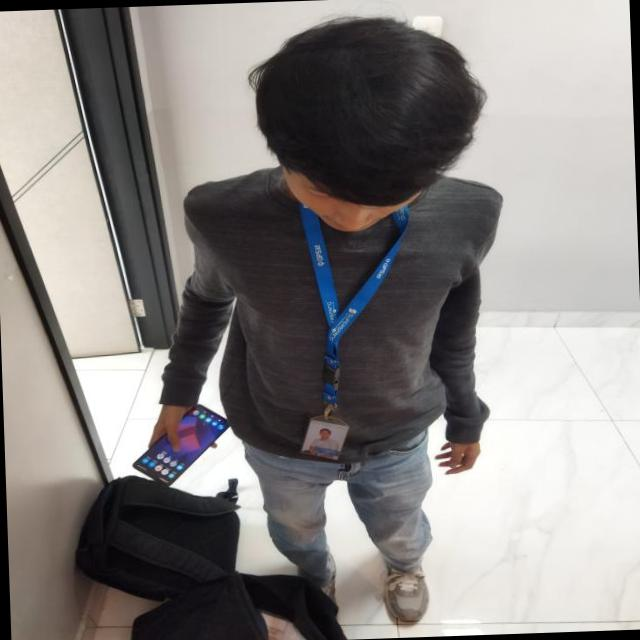id_card: (295, 190, 410, 461)
